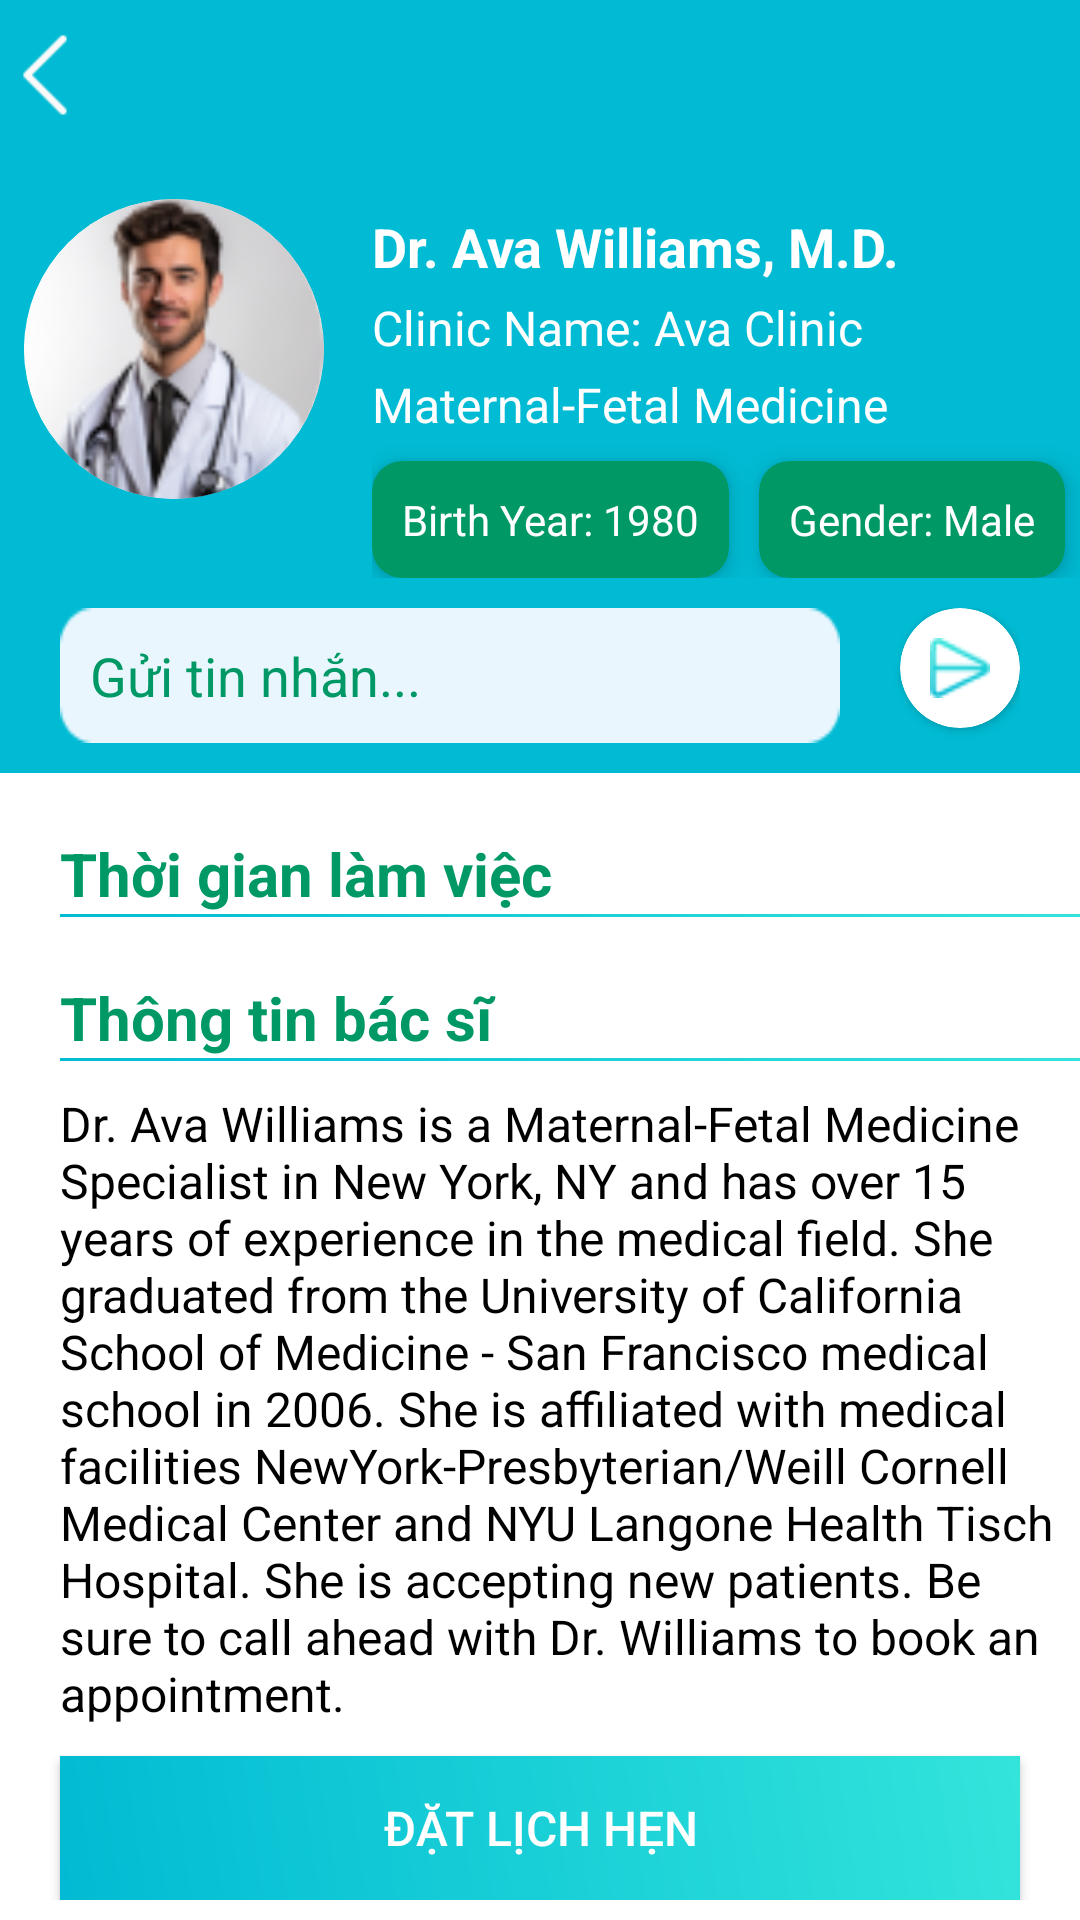

Where to tap for icons on this 1080w x 1920h app screen, as point (x, y):
back: point (45, 75)
send: point (960, 668)
